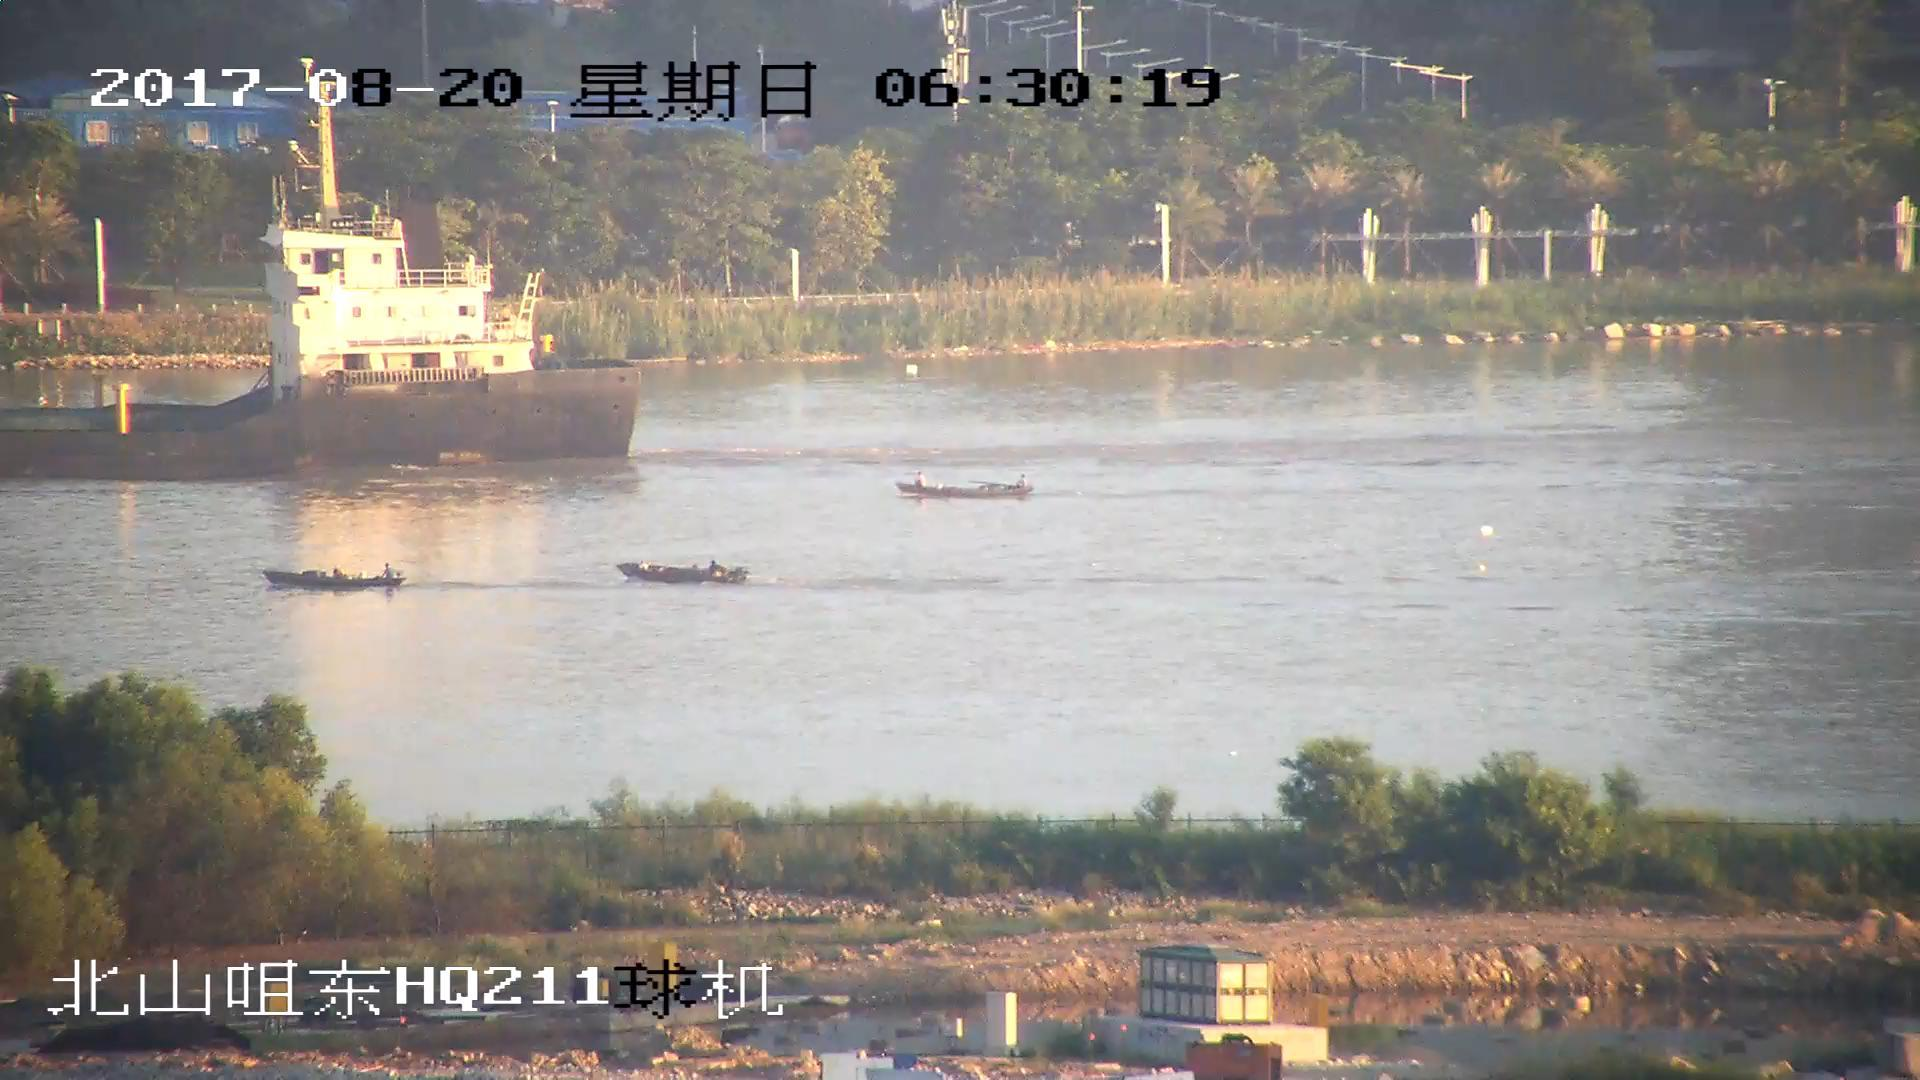Ship: (3, 135, 642, 477), (618, 556, 746, 589), (266, 564, 406, 593), (902, 471, 1033, 501)
